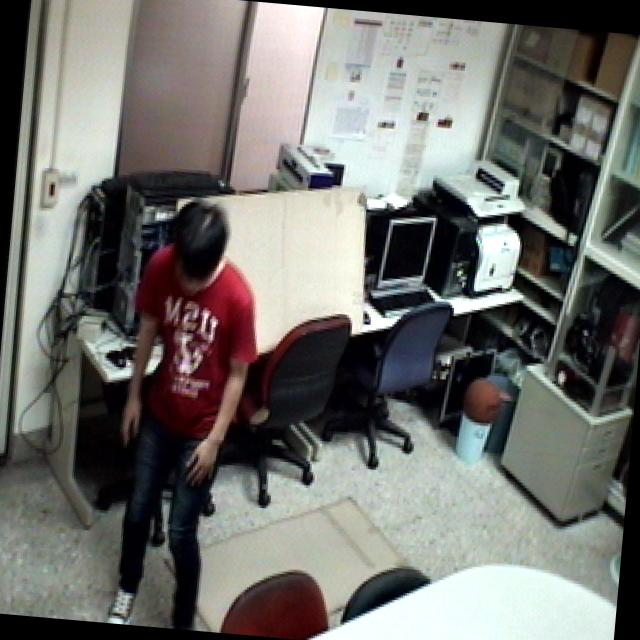stand: (96, 185, 276, 634)
